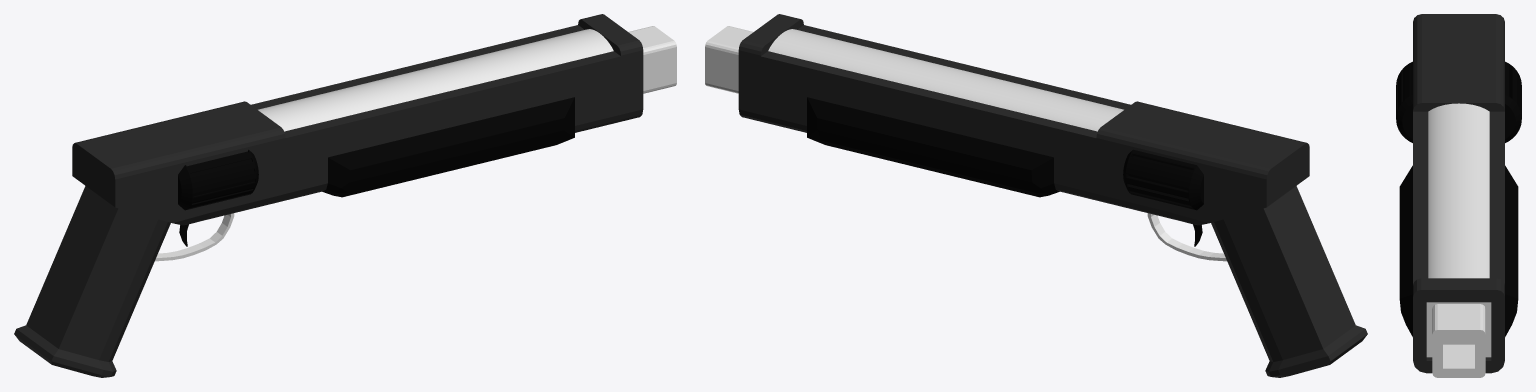
File: tranquilizer.gltf
The picture shows the model from 3 angles, left to right: view 1: azimuth 30°, elevation 25°; view 2: azimuth 150°, elevation 25°; view 3: azimuth 270°, elevation 25°; orthographic projection. The views are drawn at different scales.
Parts seen in each view (by area): view 1: körper, energie balken, magazin.001, auslöser garde; view 2: körper, energie balken, magazin, auslöser garde; view 3: körper, energie balken, magazin.001, magazin.
Part boxes in pixels (box(x1,y1,x2,y2)): körper: box(14, 14, 676, 377); energie balken: box(258, 29, 613, 131); magazin.001: box(178, 149, 258, 210); auslöser garde: box(155, 213, 234, 261); körper: box(705, 14, 1367, 377); energie balken: box(768, 29, 1123, 131); magazin: box(1123, 149, 1203, 210); auslöser garde: box(1147, 213, 1226, 261); körper: box(1399, 14, 1518, 377); energie balken: box(1428, 103, 1489, 278); magazin.001: box(1396, 61, 1412, 142); magazin: box(1505, 61, 1521, 142).
Size of the model in its own units: 16.97 by 5.52 by 2.73.
4 materials, 1 textured.
